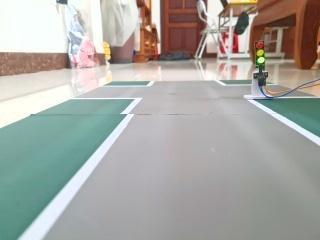green: (248, 36, 273, 71)
